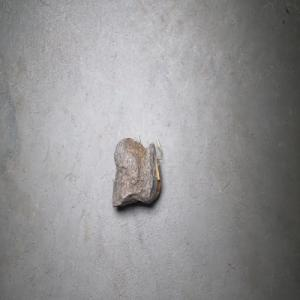Rock: (111, 134, 162, 207)
